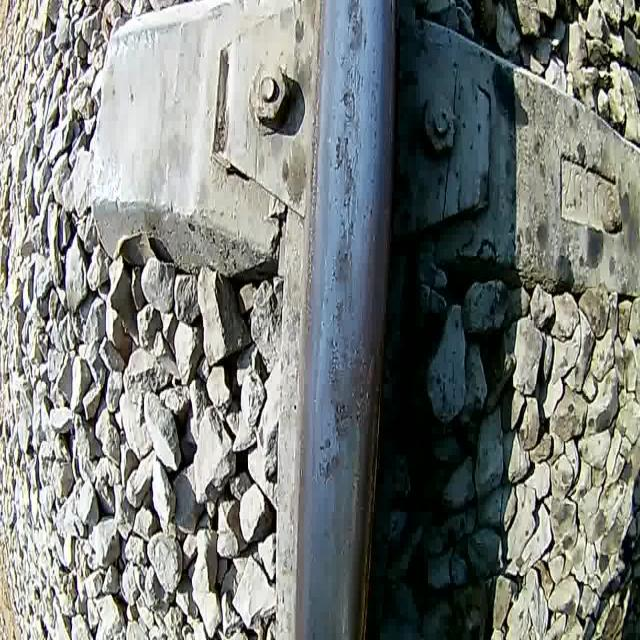Squats: (324, 331, 382, 446), (330, 216, 359, 290), (332, 130, 358, 210), (342, 0, 373, 59), (314, 444, 348, 490)
